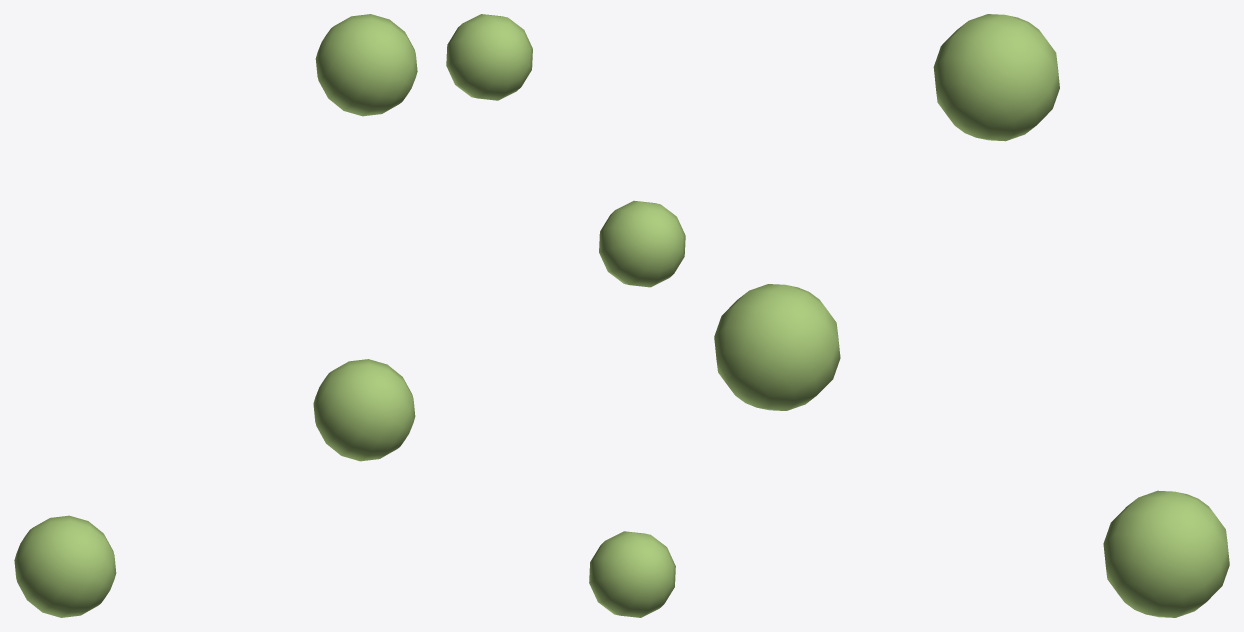
The model's file is intraglandular-parotid-nodes-l.glb.
3 views of the same model, side by side, from view 1: azimuth 30°, elevation 25°; view 2: azimuth 150°, elevation 25°; view 3: azimuth 270°, elevation 25° (orthographic). The views are drawn at different scales.
Parts seen in each view (by area): view 1: Intraglandular parotid nodes.l; view 2: Intraglandular parotid nodes.l; view 3: Intraglandular parotid nodes.l.
Part boxes in pixels (box(x1,y1,x2,y2)): Intraglandular parotid nodes.l: box(14, 14, 417, 617); Intraglandular parotid nodes.l: box(446, 14, 685, 617); Intraglandular parotid nodes.l: box(714, 14, 1229, 617).
Bounding box in the file's own units: 0.00942 × 0.0164 × 0.0104.
